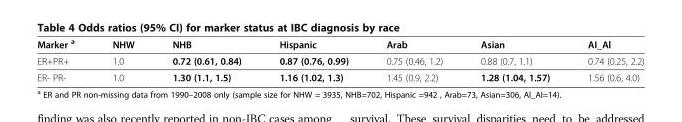table: (36, 36, 643, 82)
table column: (152, 36, 259, 82), (259, 36, 366, 82), (461, 36, 568, 82), (366, 36, 461, 82), (568, 36, 643, 82), (92, 36, 152, 82), (36, 36, 92, 82)
table column header: (36, 36, 643, 52)
table row: (36, 36, 643, 52), (36, 52, 643, 68), (36, 68, 643, 82)
